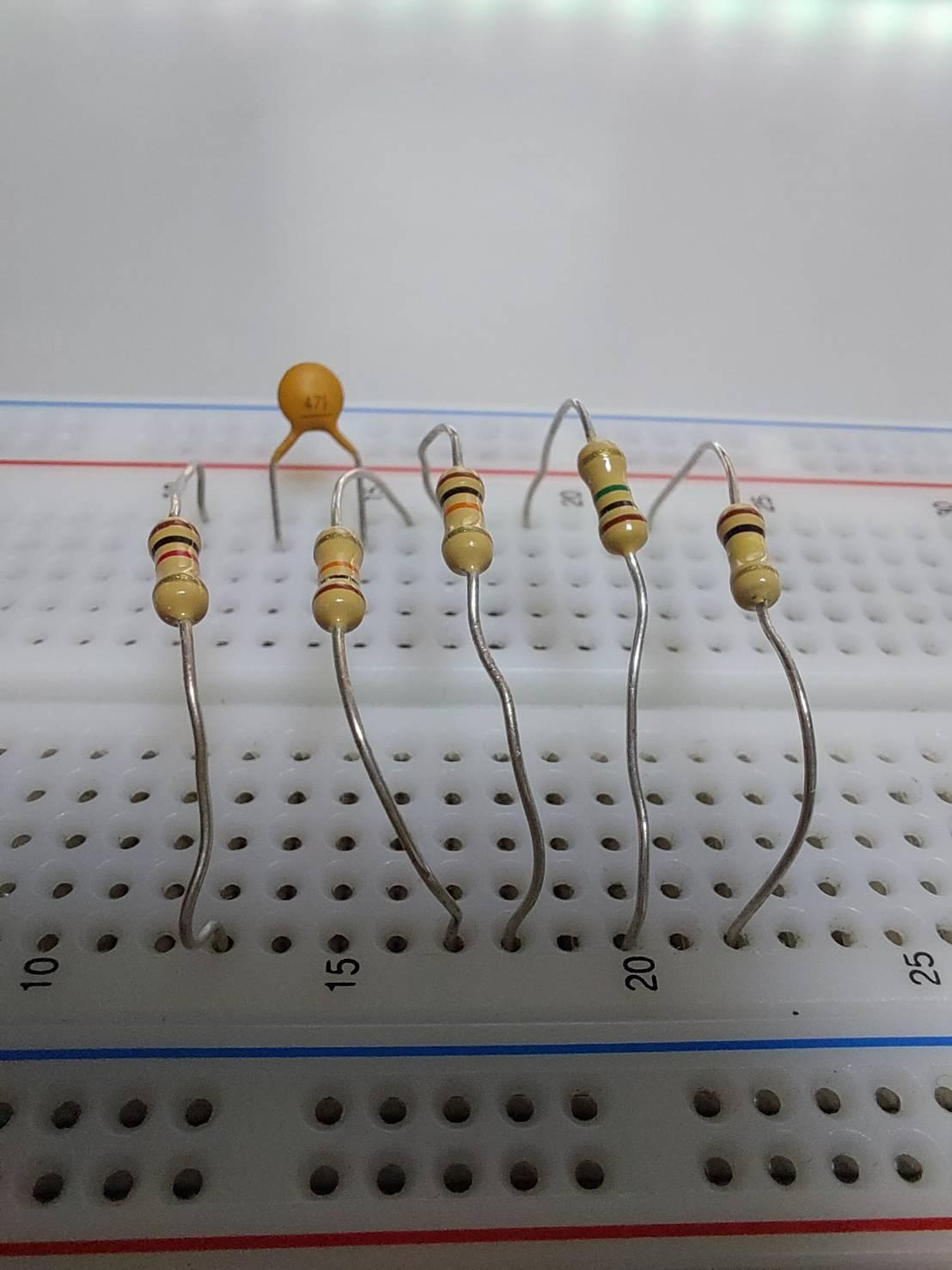resistor: (573, 443, 653, 553), (712, 500, 789, 612), (147, 515, 211, 624), (311, 532, 371, 630), (437, 472, 493, 568)
